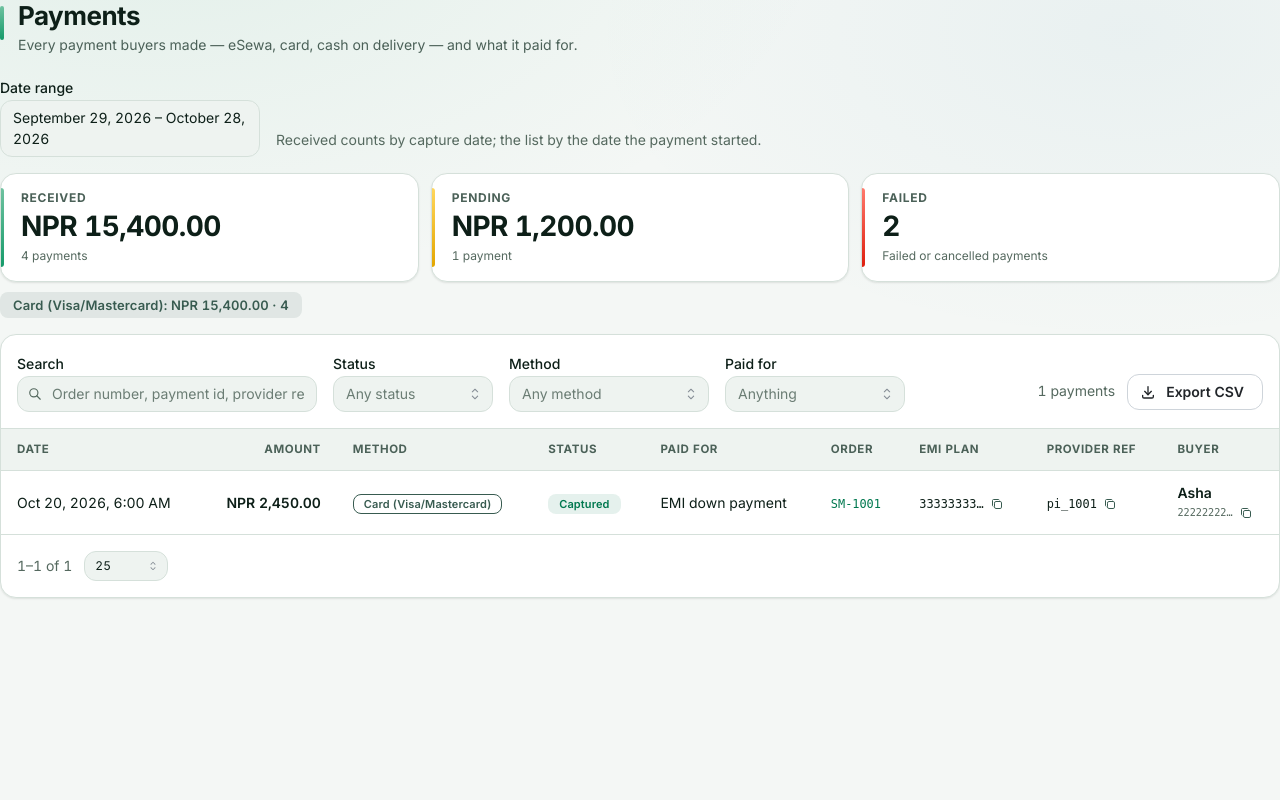
Test: payments list › opens a row in the detail drawer with every field
The width and height of the screenshot is (1280, 800).
Click the row with test id "table-row".
click(94, 502)  # box [1, 471, 1279, 534]
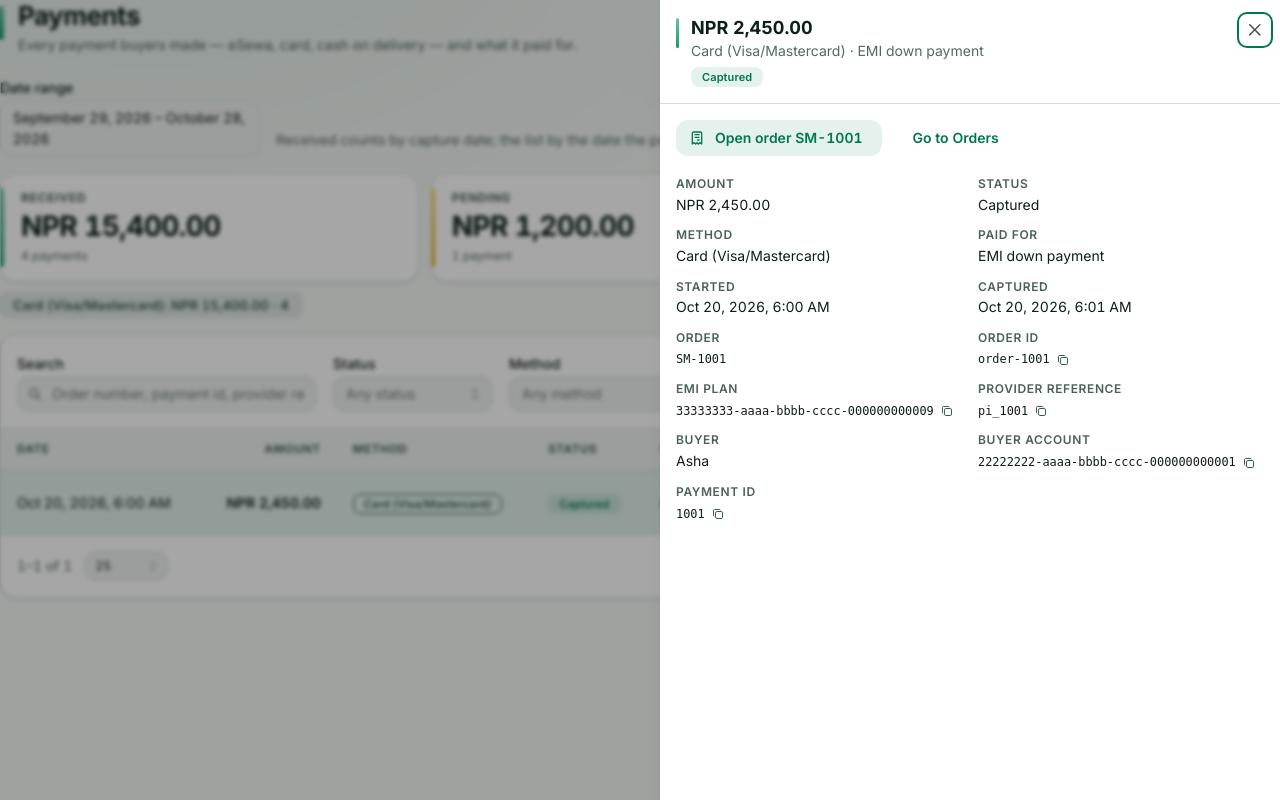
Check: the text "Payment id" is shown, box [676, 484, 756, 499]
Check: the text "1001" is shown, box [676, 506, 705, 523]
Check: the text "33333333-aaaa-bbbb-cccc-000000000009" is shown, box [676, 403, 934, 420]
